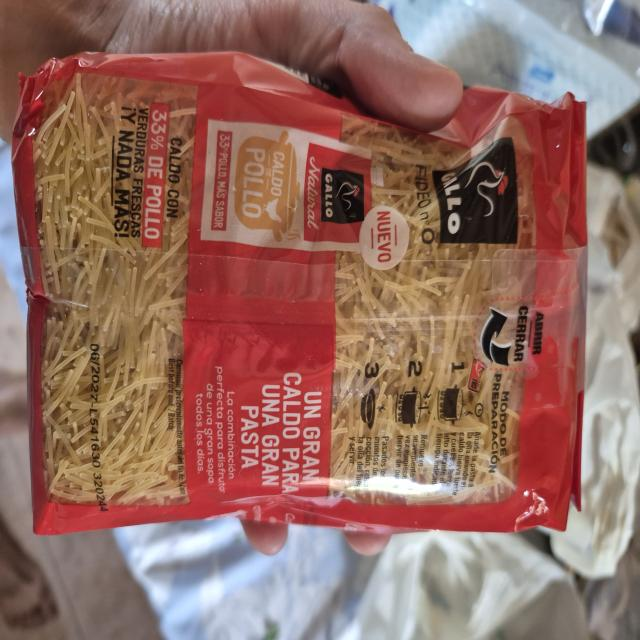huevo: (41, 114, 181, 484), (343, 252, 480, 384)
